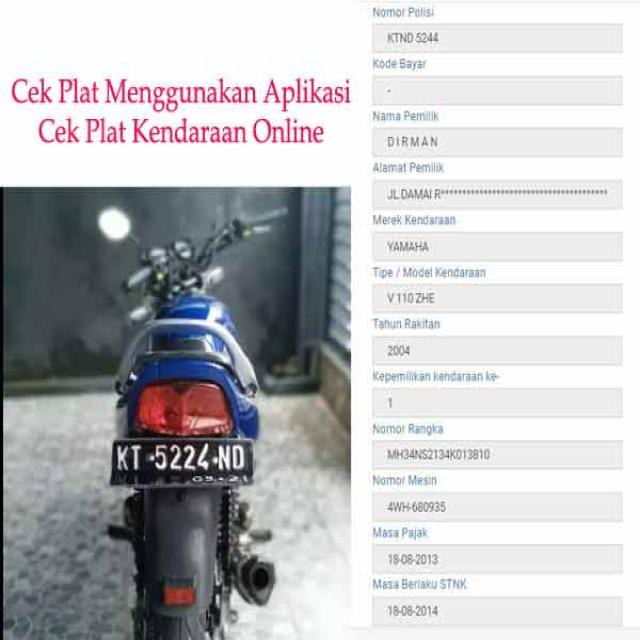plate: (115, 442, 253, 489)
